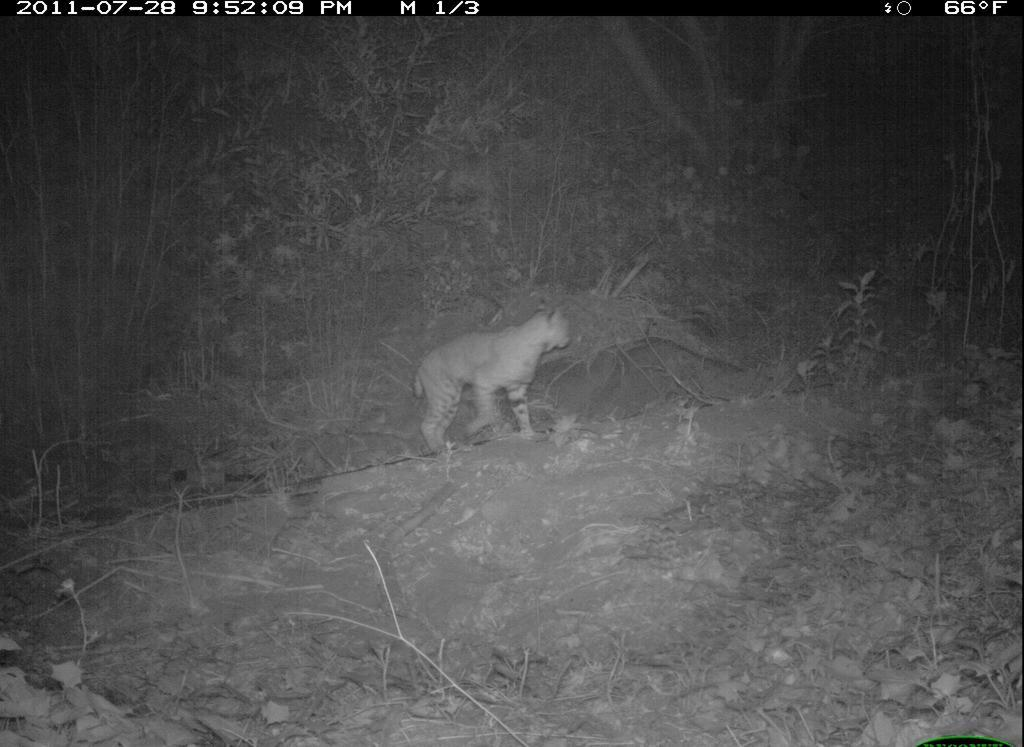bobcat: (399, 290, 580, 458)
